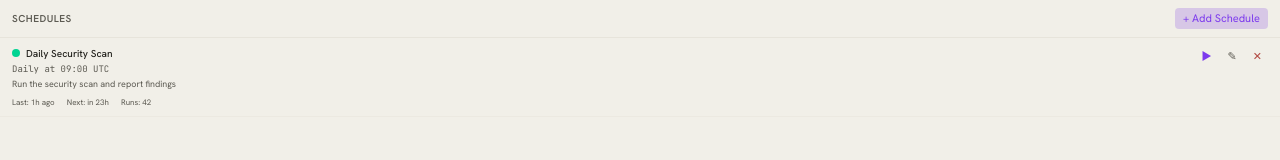
Test: ScheduleTab › shows error when run now fails
Click the button named "run schedule" at (1207, 56), box [1196,46,1218,66]
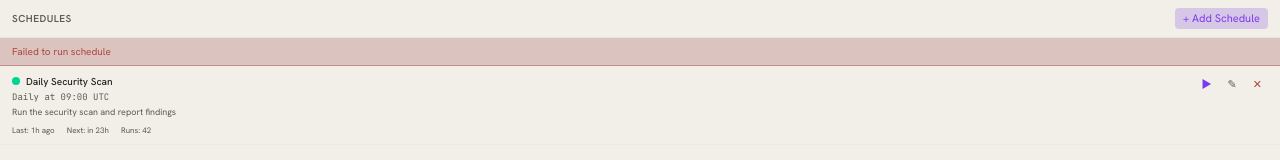
Now the text "Failed to run schedule" is shown, box [0,38,1279,66]
